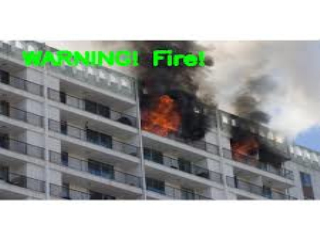fire: (145, 100, 179, 132), (234, 141, 255, 156)
smoke: (133, 43, 216, 145), (232, 72, 277, 146)
